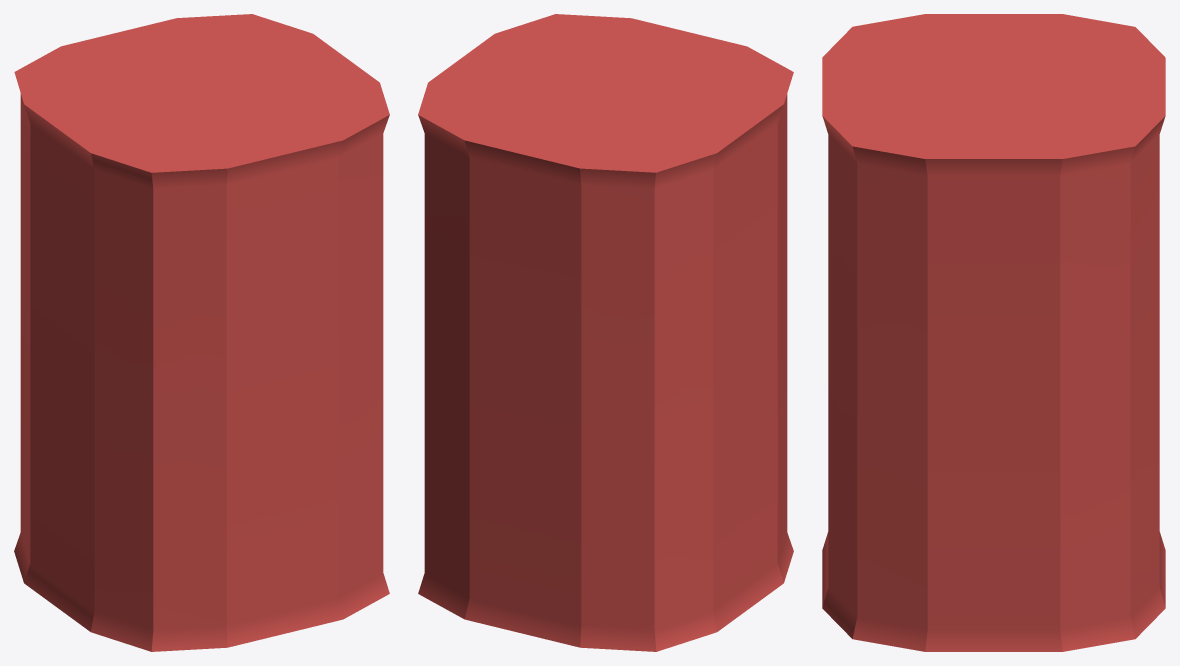
Rendered from CanBallThrowing.fbx.
3 views of the same model, side by side, from view 1: azimuth 30°, elevation 25°; view 2: azimuth 150°, elevation 25°; view 3: azimuth 270°, elevation 25° (orthographic). The views are drawn at different scales.
Visible parts, largest first — view 1: pCube21; view 2: pCube21; view 3: pCube21.
Boxes of the visible parts, bbox=[...] form: pCube21: bbox=[14, 14, 389, 651]; pCube21: bbox=[418, 14, 793, 651]; pCube21: bbox=[822, 14, 1165, 651].
Size of the model in its own units: 0.0521 by 0.0825 by 0.0521.
